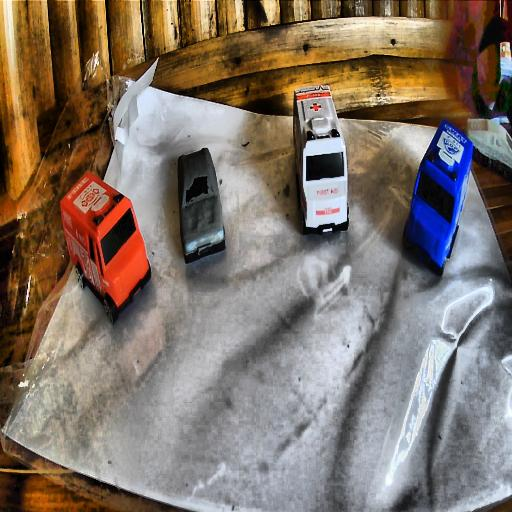ambulance: (294, 84, 350, 236)
fire_truck: (60, 174, 152, 324)
police car: (401, 120, 473, 278), (176, 148, 226, 263)
